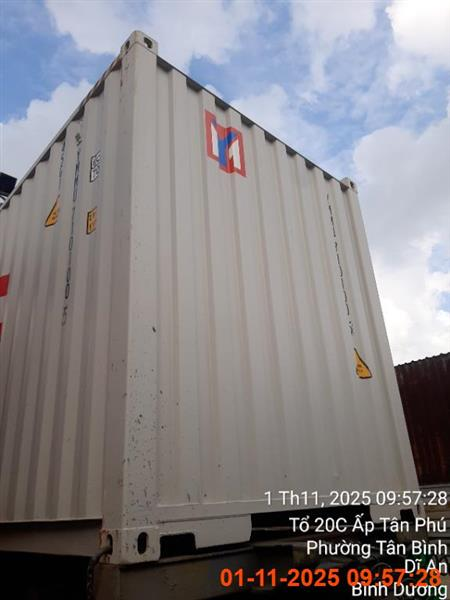broken: (0, 31, 446, 596)
